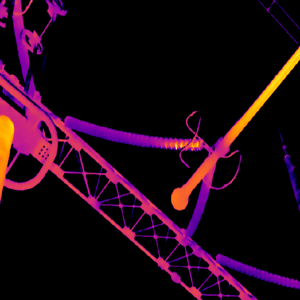insulator: (63, 113, 202, 151), (214, 250, 300, 290), (182, 157, 217, 238)
